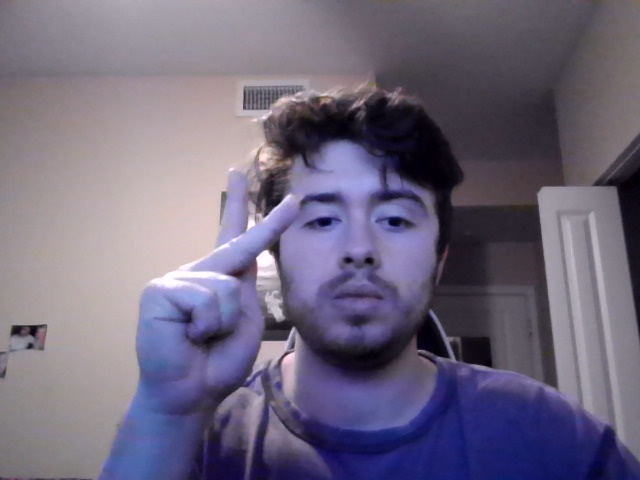k: (134, 167, 302, 425)
